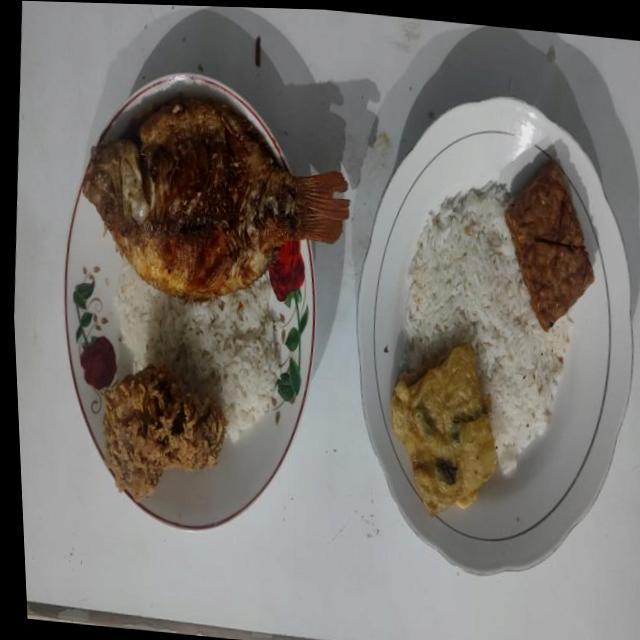ikan_mujair: (82, 98, 348, 300)
nasi_putih: (402, 181, 572, 475), (115, 266, 280, 440)
tempe_goreng: (504, 160, 594, 330)
